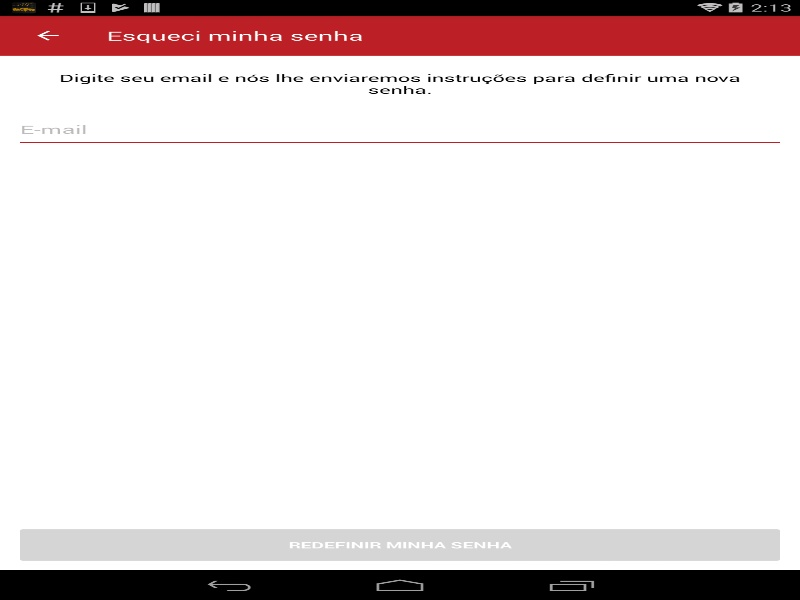Button: (20, 529, 780, 560), (10, 15, 85, 55)
Input: (20, 109, 780, 146)
